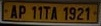character: (42, 5, 51, 19), (18, 4, 26, 19), (9, 4, 17, 18), (50, 6, 58, 20), (68, 6, 76, 20), (76, 7, 84, 20), (83, 6, 90, 20), (31, 5, 37, 19), (62, 6, 68, 20), (37, 5, 42, 19)
